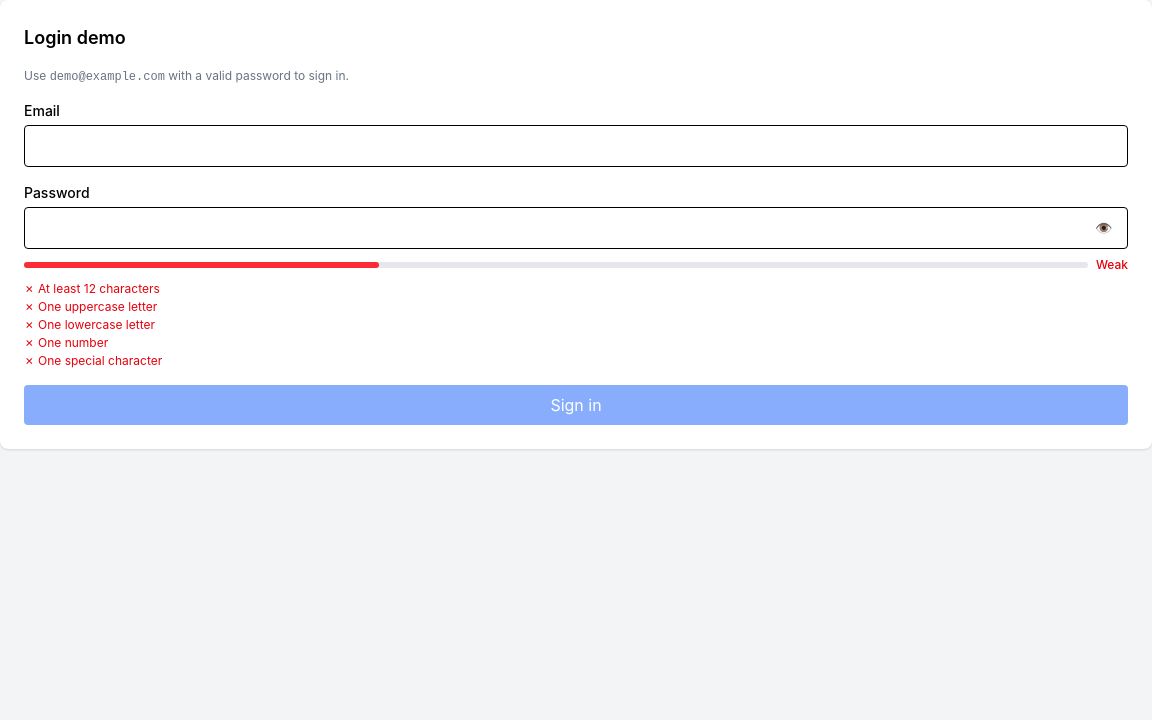
Test: LoginDemo › shows invalid credentials with the remaining attempts
Step 1. Type "wrong@example.com" into the field labelled "Email" → (576, 146), box left=24, top=125, right=1128, bottom=167
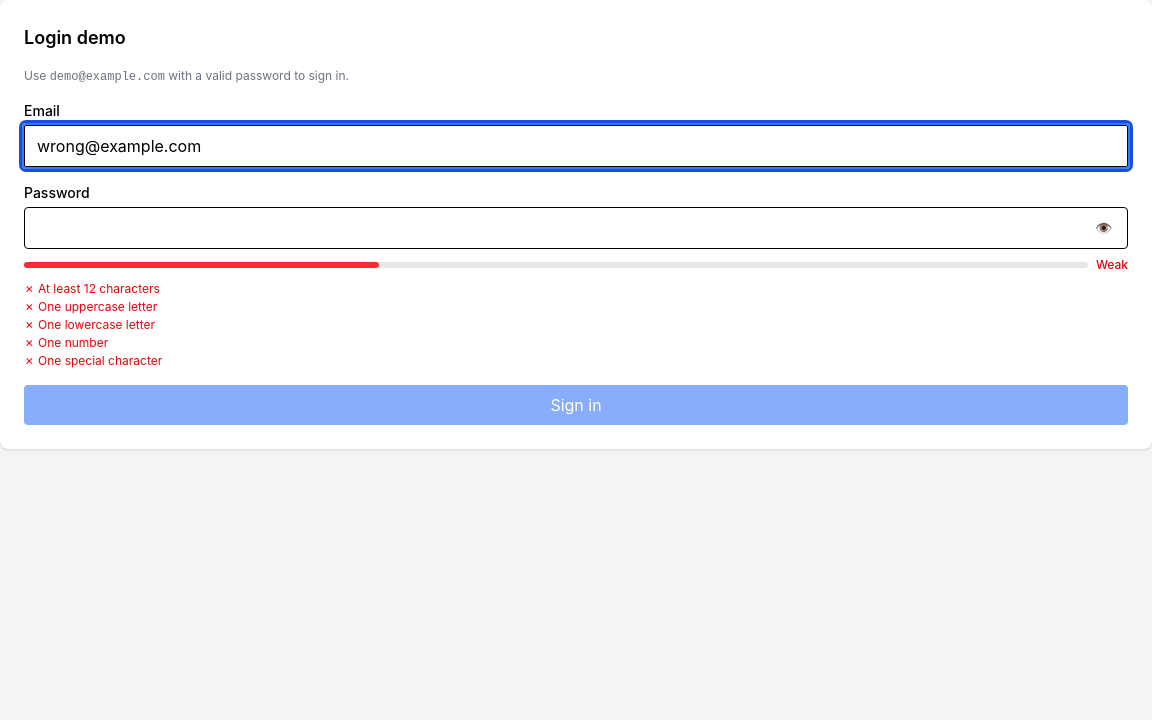
Step 2. Type "Str0ng!Pass12" into the password field named "Password" → (576, 228), box left=24, top=207, right=1128, bottom=249
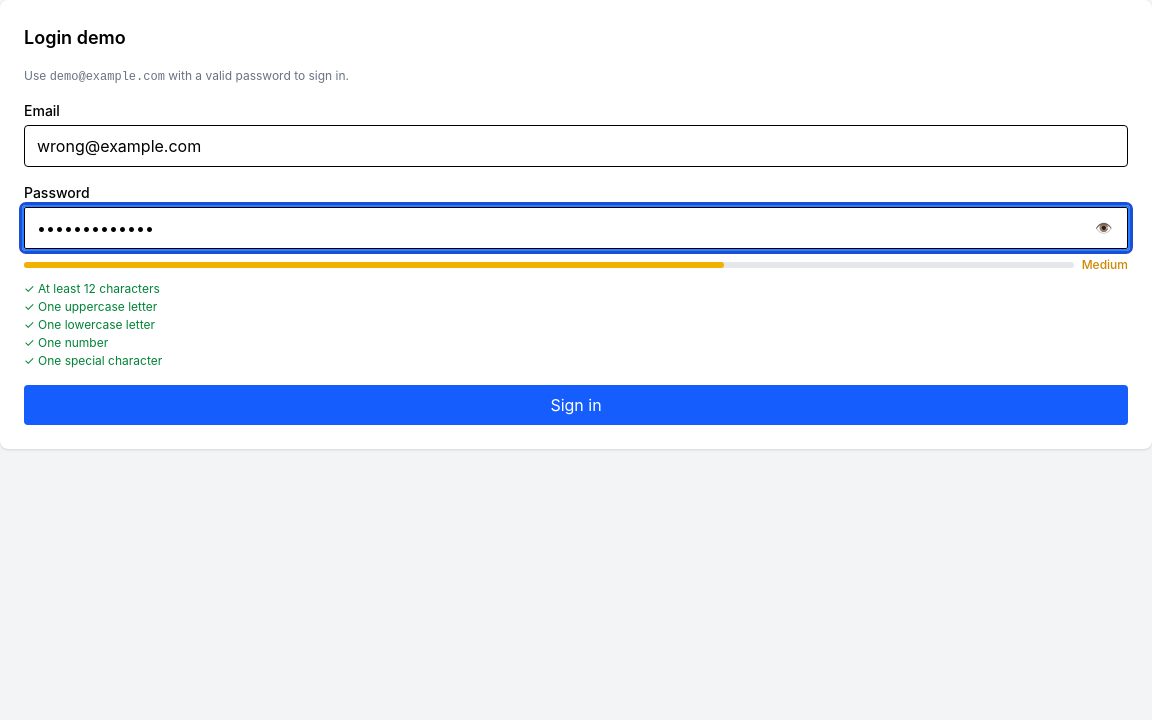
Step 3. Click the button "Sign in" → (576, 405), box left=24, top=385, right=1128, bottom=425
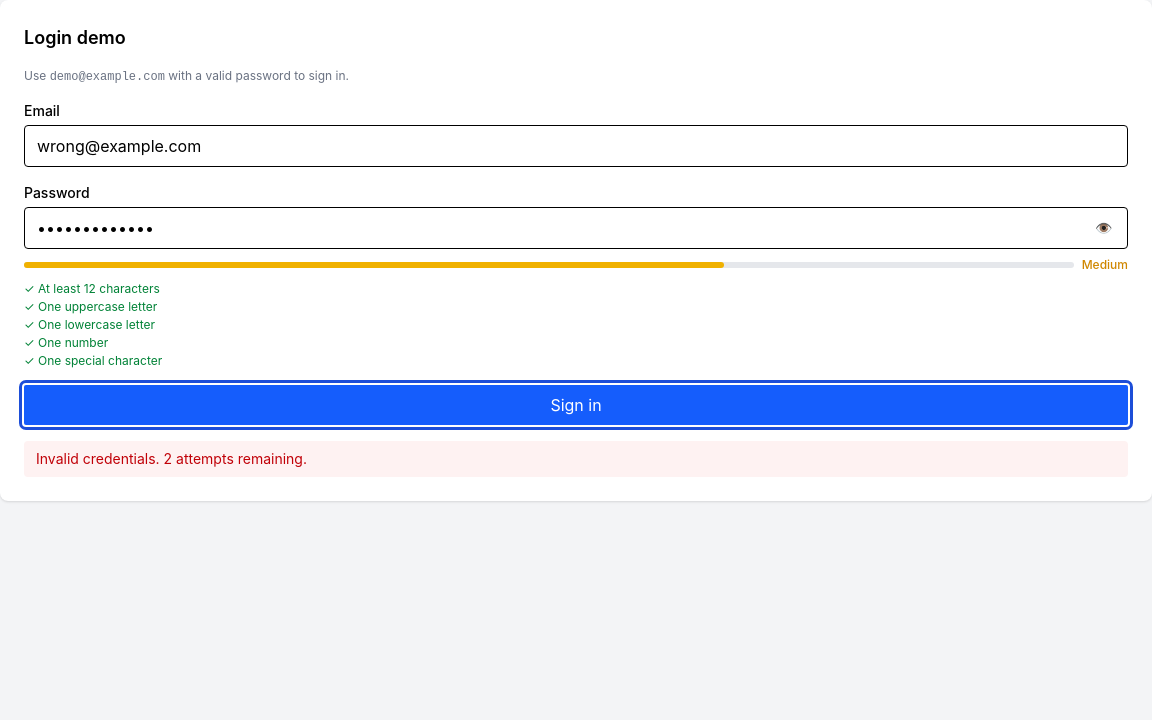
Result: the message shows "Invalid credentials" at left=36, top=450, right=164, bottom=467
Result: the message shows "2 attempts remaining" at left=24, top=441, right=1128, bottom=477
